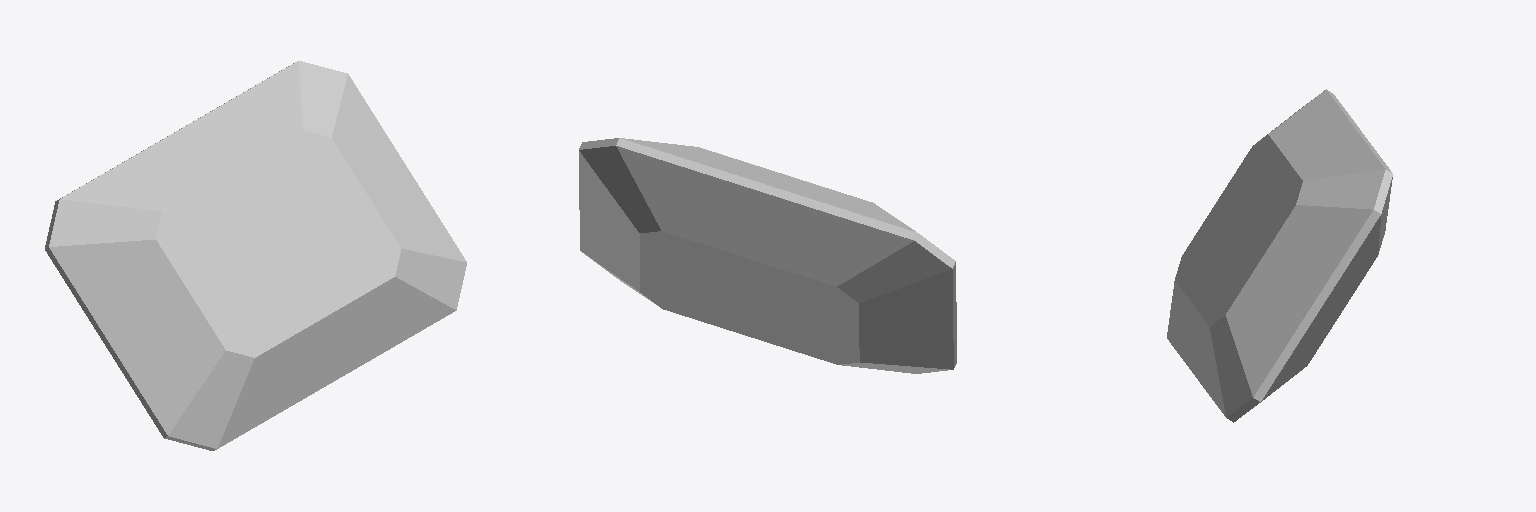
The model's file is Onyx.obj.
3 renders of one model, left to right at view 1: azimuth 30°, elevation 25°; view 2: azimuth 150°, elevation 25°; view 3: azimuth 270°, elevation 25°, orthographic.
Parts seen in each view (by area): view 1: Cylinder; view 2: Cylinder; view 3: Cylinder.
Part boxes in pixels (left/top/right/bottom): Cylinder: left=45, top=61, right=466, bottom=450; Cylinder: left=579, top=138, right=956, bottom=373; Cylinder: left=1167, top=89, right=1392, bottom=422.
Bounding box in the file's own units: 46.06 × 29.66 × 22.83.